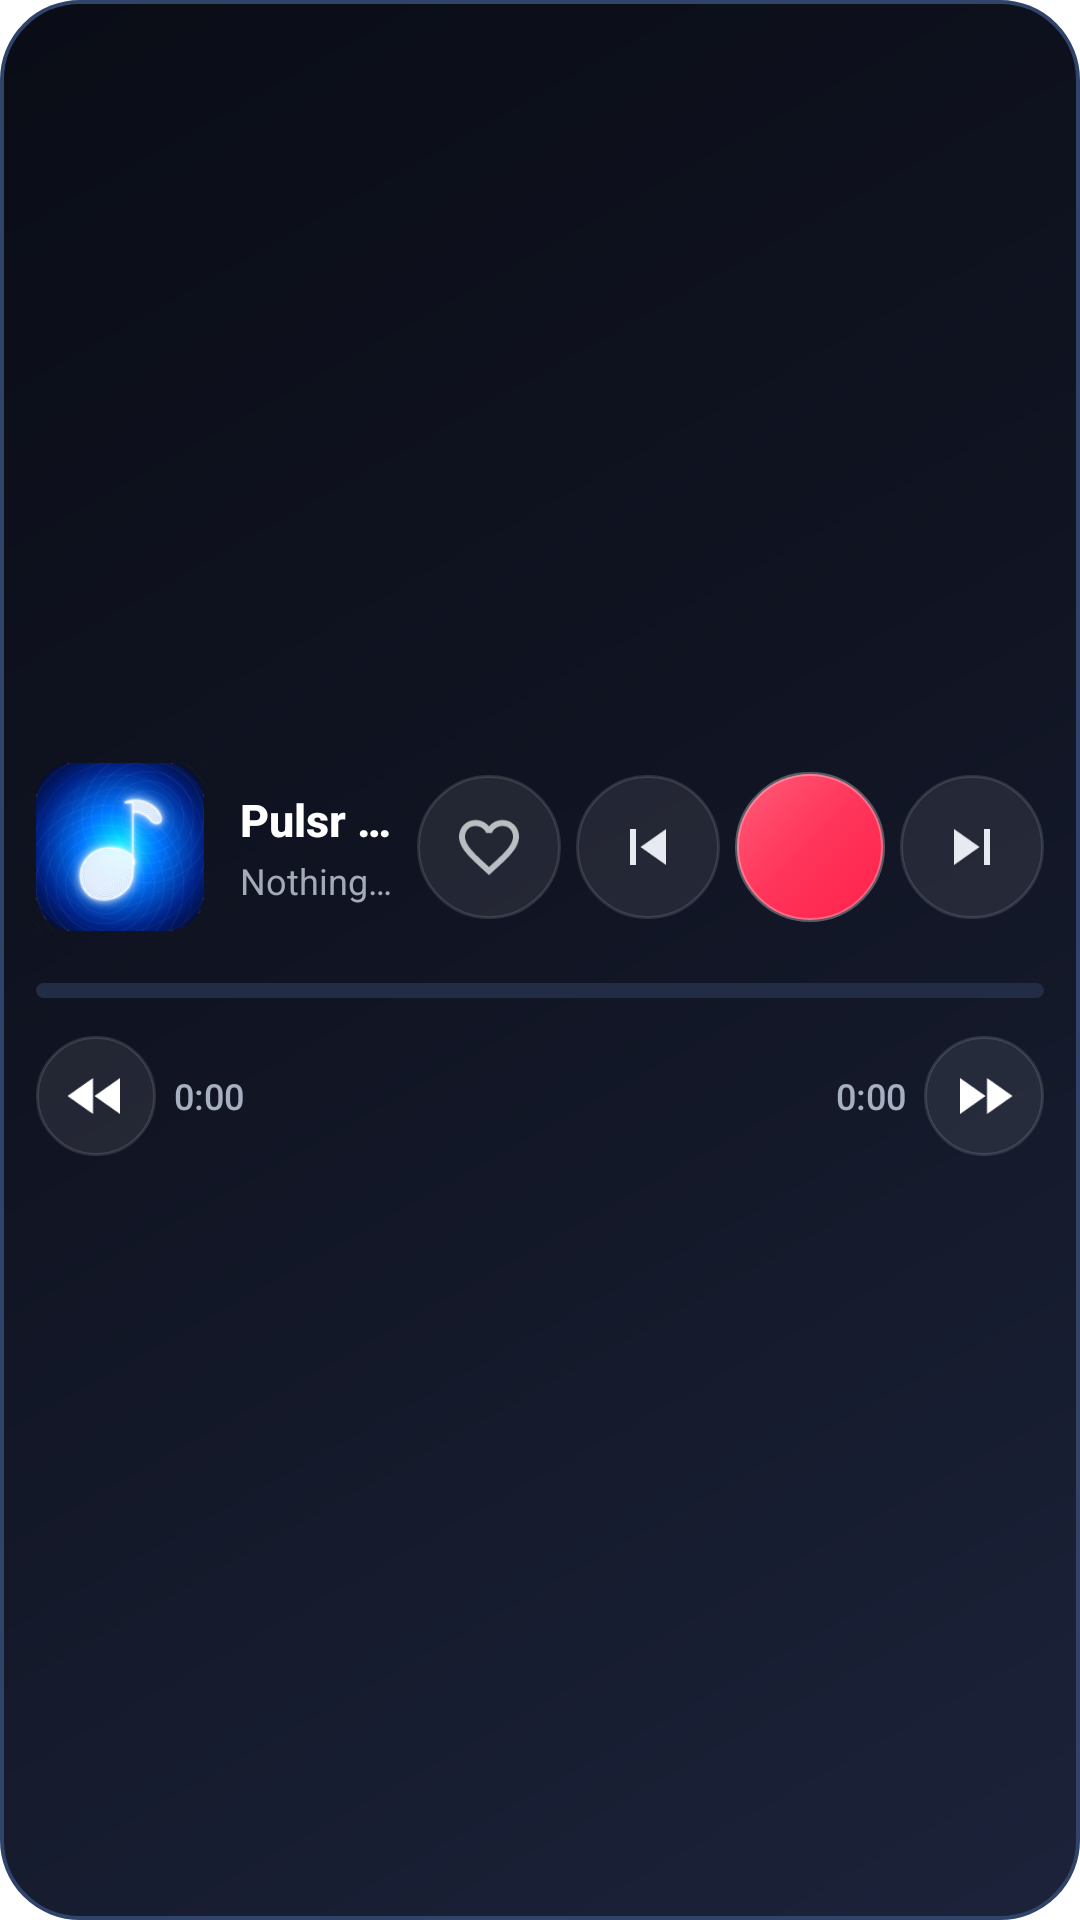

Screen size 1080w x 1920h. Icon name, then its box in pixels as (x1, y1, x2, y2):
Forward 10s: (924, 1036, 1044, 1156)
Next: (900, 775, 1044, 919)
Previous: (576, 775, 720, 919)
Rewind 10s: (36, 1036, 156, 1156)
Toggle Favorite: (417, 775, 561, 919)
